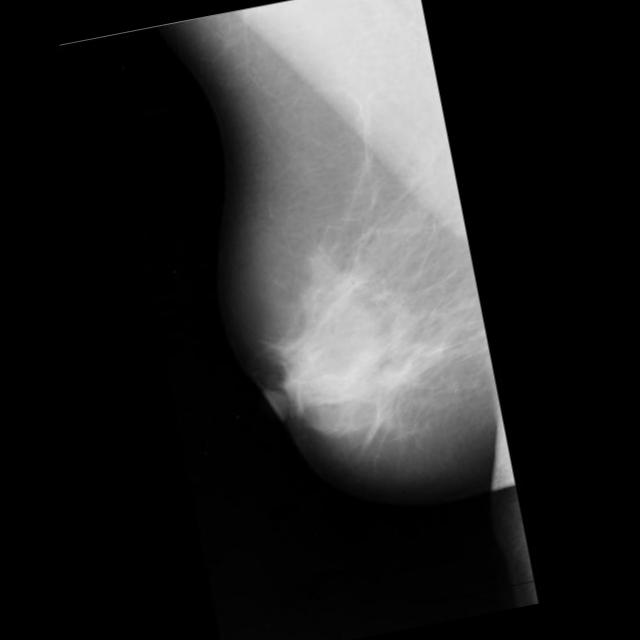SPIC: (336, 268, 364, 294)
